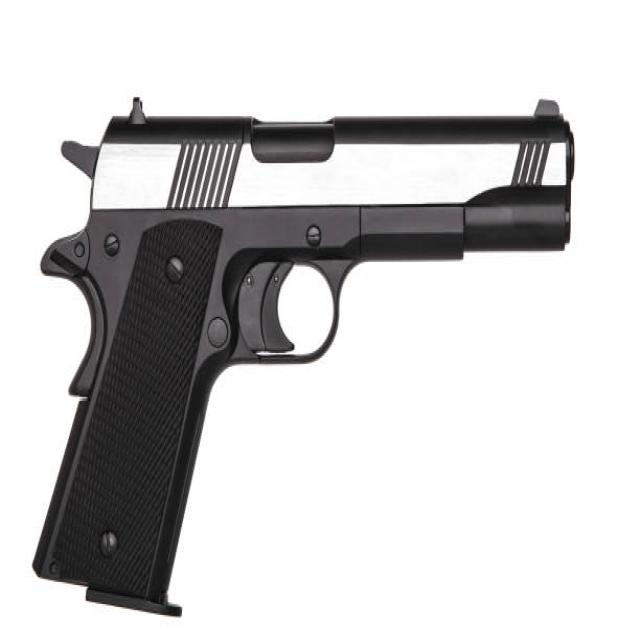pistol: (25, 83, 581, 623)
